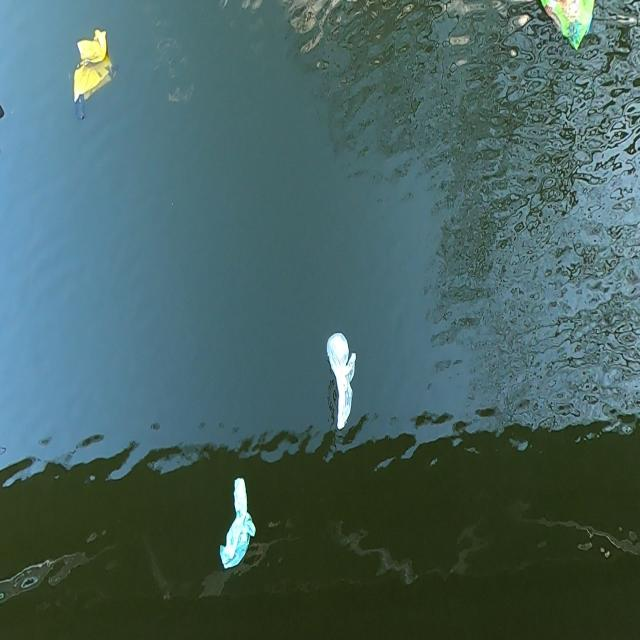Sac plastique: (67, 23, 121, 126), (212, 474, 261, 582), (325, 332, 362, 435)
